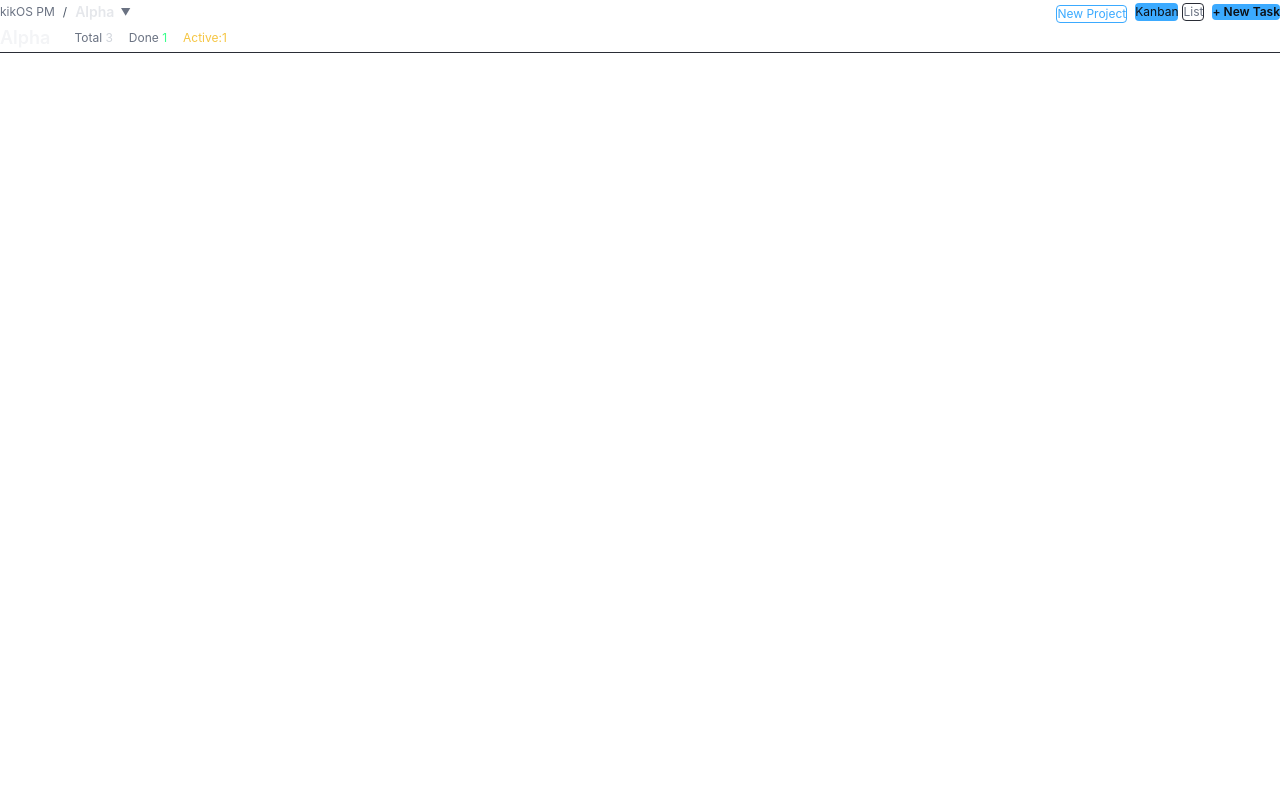
Test: StatsBar › Project switcher › closes dropdown after selecting a project
Click the button with test id "project-switcher" at (103, 12), box [75,2,131,22]
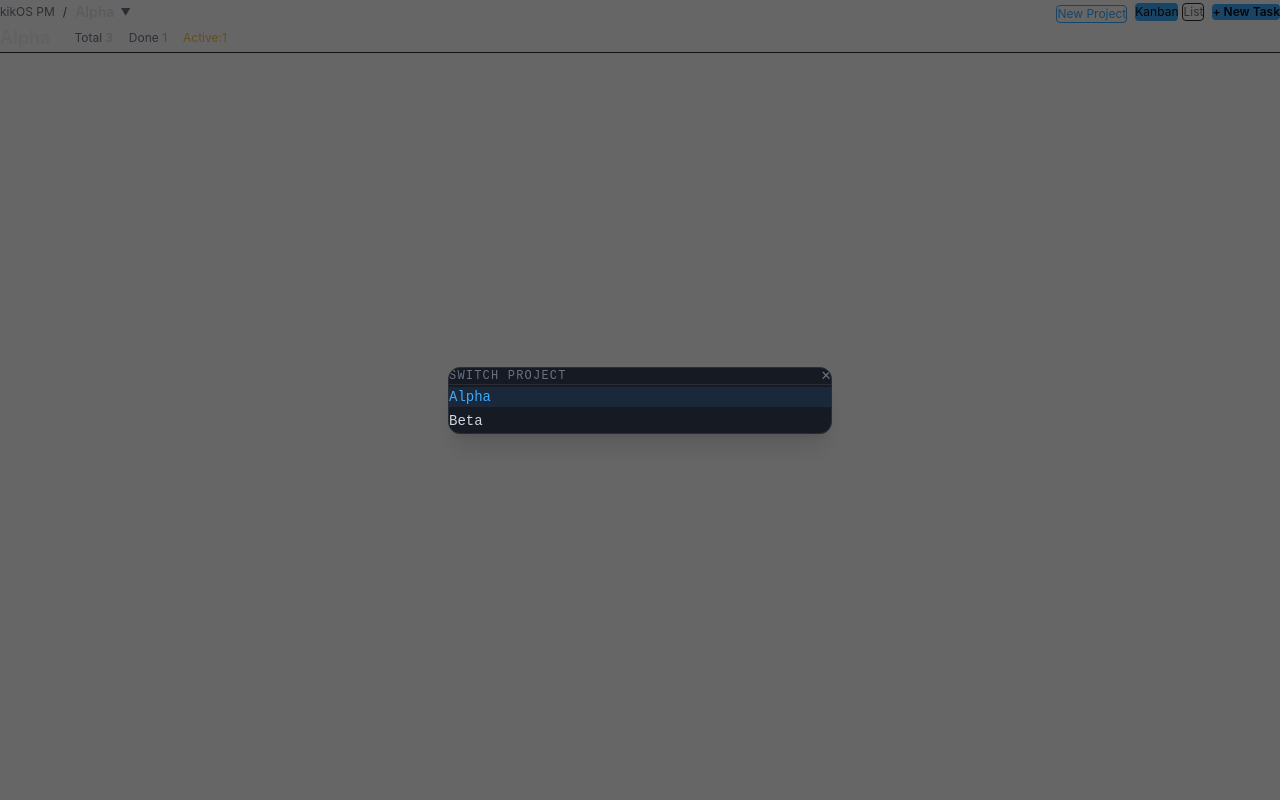
Click the button with test id "project-option-2" at (466, 420), box [449,410,831,430]
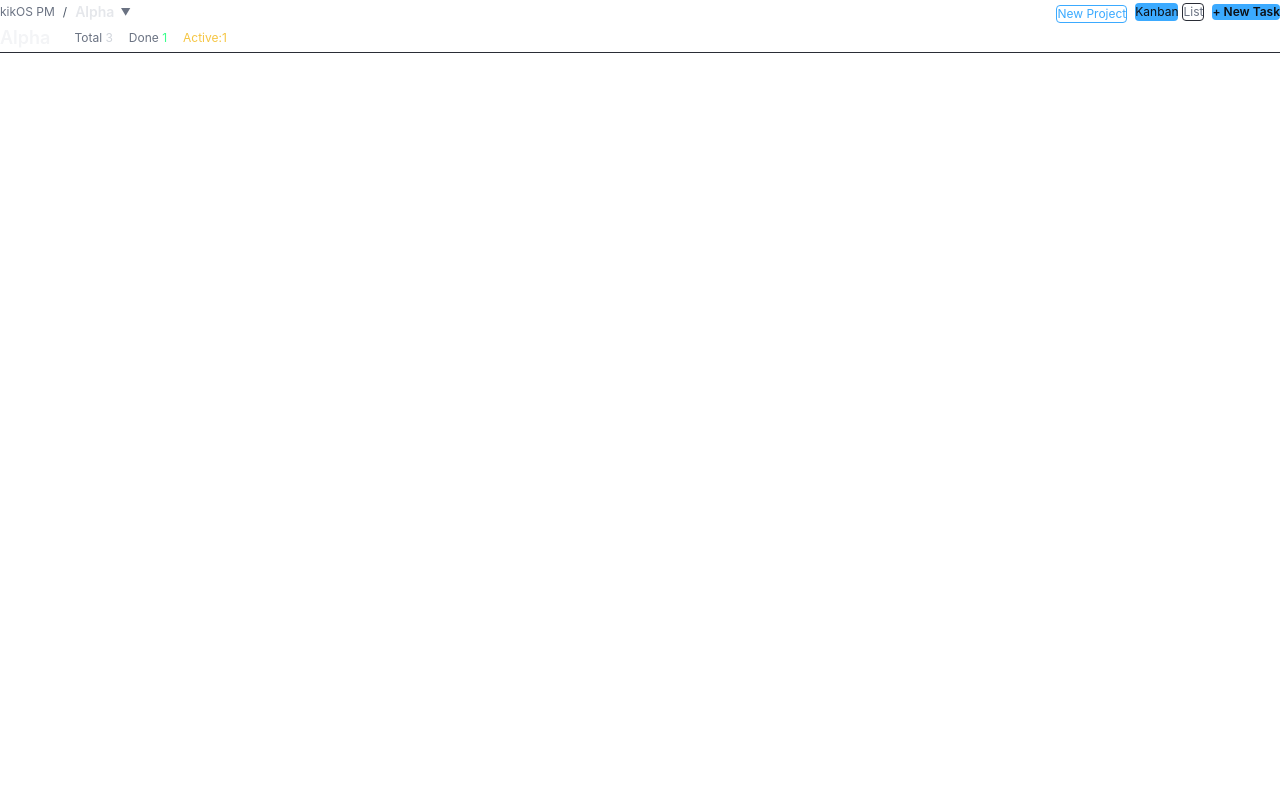
Expected: the button with test id "project-option-2" is gone
